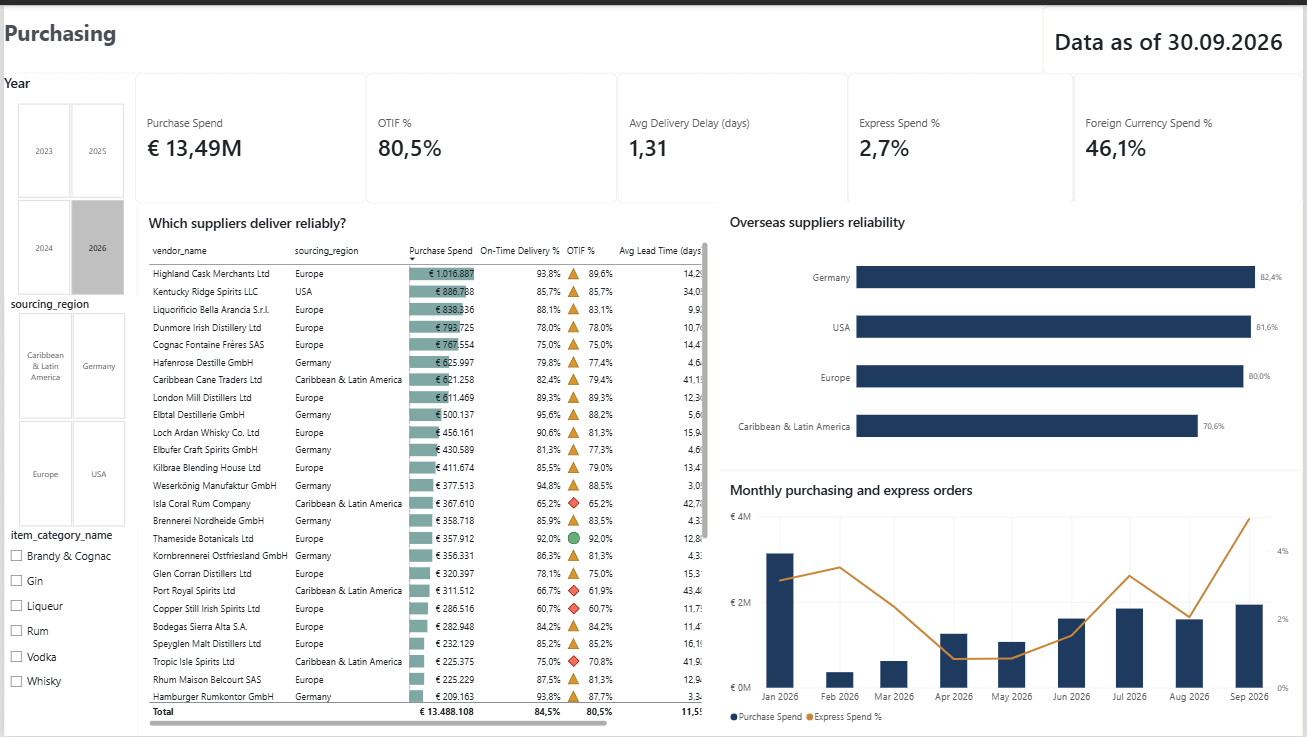

Layout of this report page (visuals, bound fields, positions):
{"tool":"powerbi","page":{"name":"Purchasing","canvas":[1920,1080],"ordinal":4},"visuals":[{"type":"slicer","title":"Year","fields":{"Values":["dim_date.year"]},"box":[0,99.7,195.7,328.6],"z":0},{"type":"textbox","box":[0,0,1533.7,98.3],"z":3000},{"type":"cardVisual","fields":{"Data":["_Measures.Data As Of"]},"box":[1533.7,0,386.3,100.6],"z":4000},{"type":"cardVisual","fields":{"Data":["_Measures.Purchase Spend"]},"box":[194.1,99.8,340.7,192],"z":5000},{"type":"cardVisual","fields":{"Data":["_Measures.OTIF %"]},"box":[534.8,99.8,370.8,192],"z":6000},{"type":"cardVisual","fields":{"Data":["_Measures.Avg Delivery Delay (days)"]},"box":[905.7,99.8,340.7,192],"z":7000},{"type":"cardVisual","fields":{"Data":["_Measures.Express Spend %"]},"box":[1246.4,99.8,333.2,192],"z":8000},{"type":"cardVisual","fields":{"Data":["_Measures.Foreign Currency Spend %"]},"box":[1579.5,99.8,338.8,192],"z":9000},{"type":"slicer","fields":{"Values":["dim_vendor.sourcing_region"]},"box":[2,428,196,342],"z":13001},{"type":"slicer","fields":{"Values":["dim_item_category.item_category_name"]},"box":[2,770,194,310],"z":13002},{"type":"tableEx","title":"Which suppliers deliver reliably?","fields":{"Values":["dim_vendor.vendor_name","dim_vendor.sourcing_region","_Measures.Purchase Spend","_Measures.On-Time Delivery %","_Measures.OTIF %","_Measures.Avg Lead Time (days)","_Measures.Avg Delivery Delay (days)"]},"box":[198,292,858,788],"z":13003},{"type":"barChart","title":"Overseas suppliers reliability","fields":{"Category":["dim_vendor.sourcing_region"],"Y":["_Measures.OTIF %"]},"box":[1056,290.3,861.7,395.4],"z":13004},{"type":"lineClusteredColumnComboChart","title":"Monthly purchasing and express orders","fields":{"Category":["dim_date.month_start_date"],"Y":["_Measures.Purchase Spend"],"Y2":["_Measures.Express Spend %"]},"box":[1056,687,861,393],"z":13005}]}

Visuals, with their boxes in screenshot pixels (x1, y1, x2, y2), scaled from the page's 1920x1080 canvas onto the 1307x737 screenshot:
"Year" slicer: {"left": 0, "top": 68, "right": 133, "bottom": 292}
textbox: {"left": 0, "top": 0, "right": 1044, "bottom": 67}
cardVisual - _Measures.Data As Of: {"left": 1044, "top": 0, "right": 1306, "bottom": 69}
cardVisual - _Measures.Purchase Spend: {"left": 132, "top": 68, "right": 364, "bottom": 199}
cardVisual - _Measures.OTIF %: {"left": 364, "top": 68, "right": 616, "bottom": 199}
cardVisual - _Measures.Avg Delivery Delay (days): {"left": 617, "top": 68, "right": 848, "bottom": 199}
cardVisual - _Measures.Express Spend %: {"left": 848, "top": 68, "right": 1075, "bottom": 199}
cardVisual - _Measures.Foreign Currency Spend %: {"left": 1075, "top": 68, "right": 1306, "bottom": 199}
slicer - dim_vendor.sourcing_region: {"left": 1, "top": 292, "right": 135, "bottom": 525}
slicer - dim_item_category.item_category_name: {"left": 1, "top": 525, "right": 133, "bottom": 736}
"Which suppliers deliver reliably?" tableEx: {"left": 135, "top": 199, "right": 719, "bottom": 736}
"Overseas suppliers reliability" barChart: {"left": 719, "top": 198, "right": 1305, "bottom": 468}
"Monthly purchasing and express orders" lineClusteredColumnComboChart: {"left": 719, "top": 469, "right": 1305, "bottom": 736}
